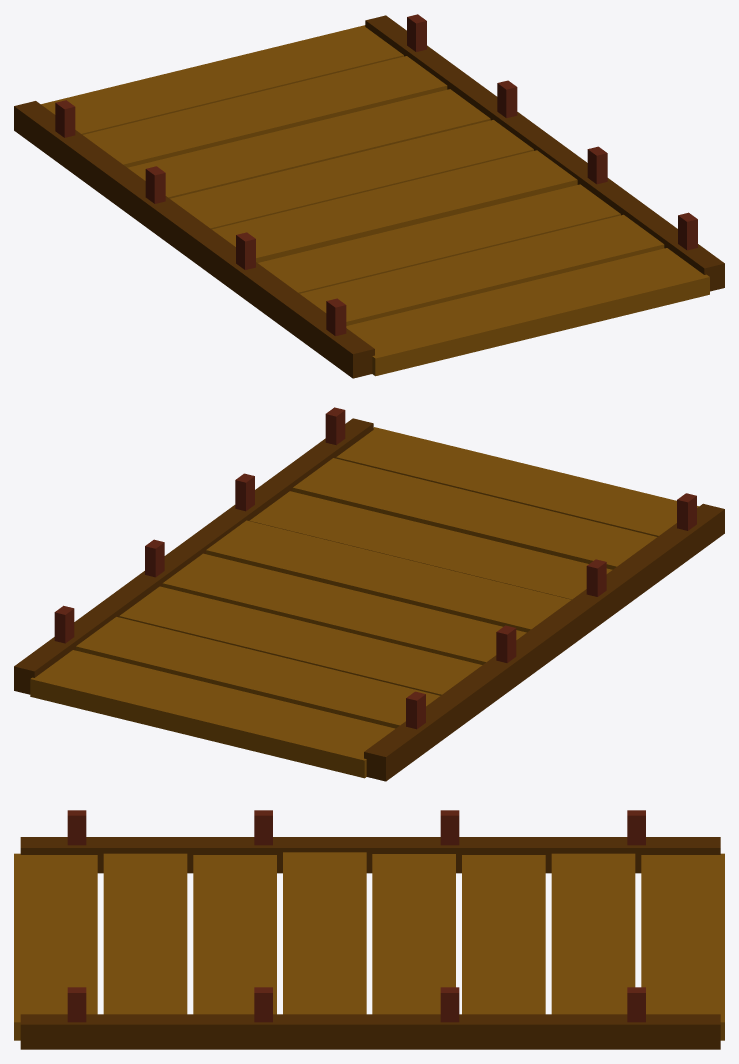
Rendered from woodPad.fbx.
3 renders of one model, top to bottom at view 1: azimuth 30°, elevation 25°; view 2: azimuth 150°, elevation 25°; view 3: azimuth 270°, elevation 25°, orthographic. The views are drawn at different scales.
Parts seen in each view (by area): view 1: Cube, 立方体, 立方体.001, 立方体.002; view 2: Cube, 立方体, 立方体.002, 立方体.001; view 3: Cube, 立方体, 立方体.001, 立方体.002.
Part boxes in pixels (box(x1,y1,x2,y2)): Cube: box(41, 25, 709, 376); 立方体: box(14, 15, 724, 378); 立方体.001: box(55, 100, 346, 336); 立方体.002: box(407, 14, 697, 250); Cube: box(30, 427, 698, 778); 立方体: box(14, 418, 724, 781); 立方体.002: box(54, 407, 345, 643); 立方体.001: box(406, 493, 696, 729); Cube: box(14, 852, 724, 1040); 立方体: box(20, 837, 720, 1049); 立方体.001: box(67, 810, 645, 845); 立方体.002: box(67, 987, 645, 1022).
Bounding box in the file's own units: 495 × 67.47 × 793.
